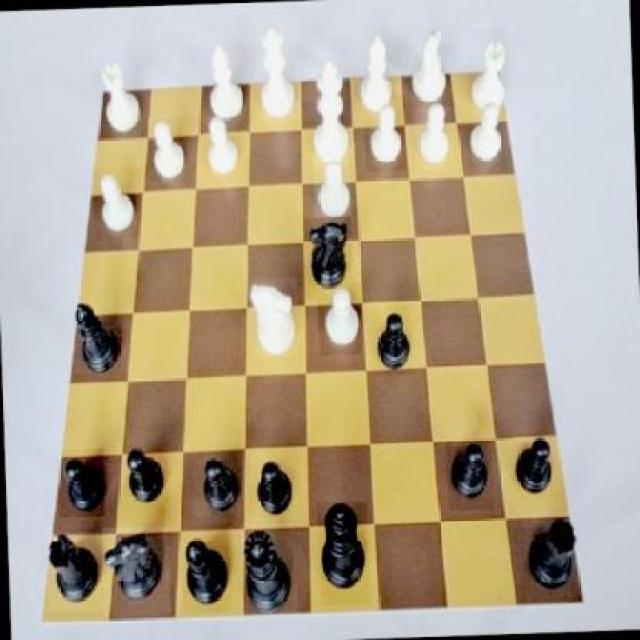bishop: (180, 531, 232, 614), (72, 297, 122, 375)
black-bishop: (317, 502, 371, 606)
black-king: (100, 526, 170, 617), (303, 215, 354, 298)
black-knight: (123, 440, 170, 519), (446, 437, 494, 511), (192, 454, 245, 517), (57, 448, 105, 517), (251, 452, 298, 520), (371, 305, 413, 377), (512, 434, 557, 498)
black-pawn: (239, 522, 296, 618)
black-queen: (523, 511, 582, 598), (46, 530, 102, 612)
black-rook: (202, 39, 248, 128), (352, 28, 395, 117)
white-bishop: (310, 54, 356, 169)
white-king: (406, 23, 457, 108), (249, 277, 299, 356)
white-knight: (94, 166, 143, 240), (363, 94, 405, 171), (317, 283, 361, 355), (203, 116, 249, 182), (414, 97, 454, 172), (149, 117, 193, 183), (313, 151, 352, 223), (466, 100, 506, 169)
white-pawn: (254, 22, 300, 122)
white-queen: (97, 57, 148, 138), (466, 28, 510, 114)
